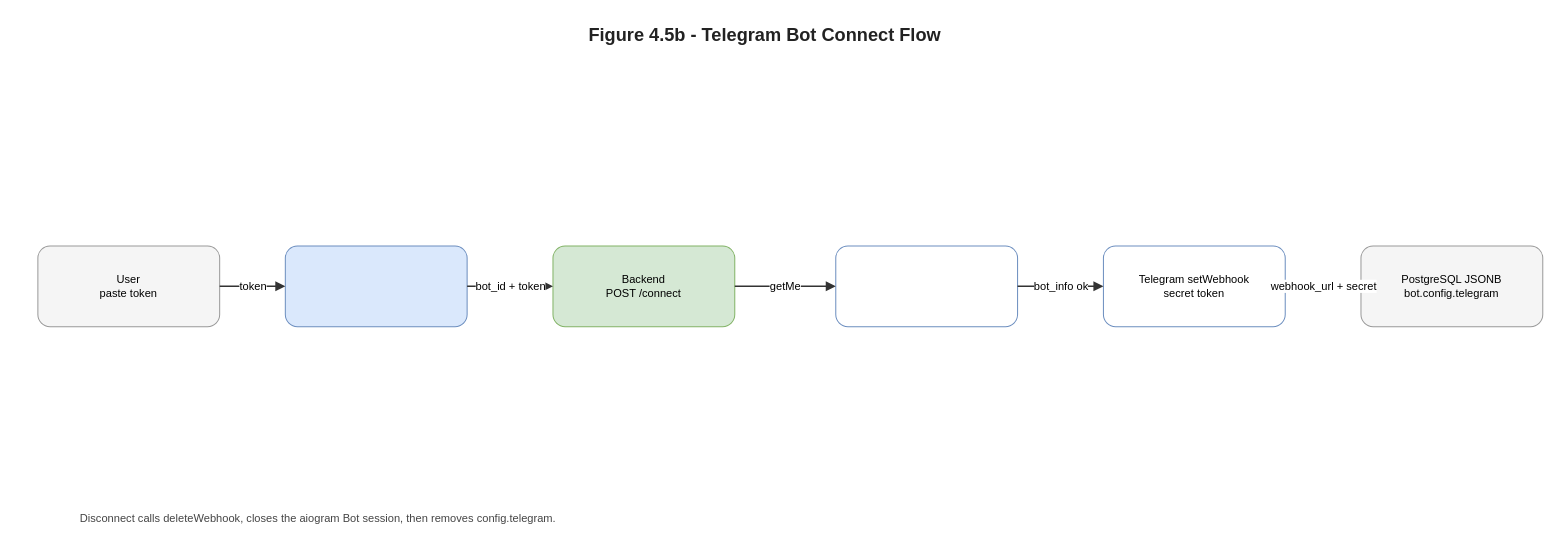
The diagram is 1560 pixels wide and 556 high, and some of its shapes have lost their labels. The centre of each missing label's shape, as x and y in pixels:
"OmniRAG UI BotConfigPage" belongs at (x=375, y=286).
"Telegram getMe verify token" belongs at (x=926, y=286).
